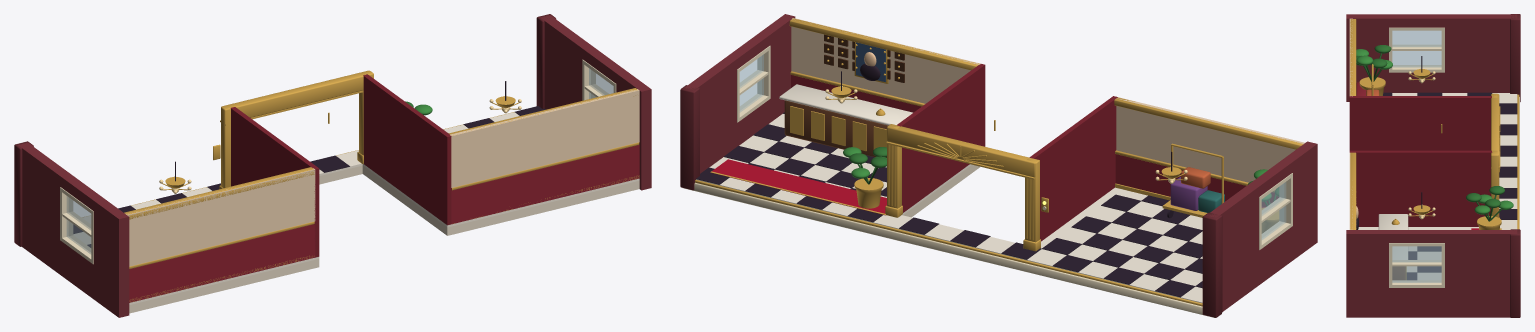
Rendered from Floor_Lobby.fbx.
The picture shows the model from 3 angles, left to right: view 1: azimuth 30°, elevation 25°; view 2: azimuth 150°, elevation 25°; view 3: azimuth 270°, elevation 25°; orthographic projection. The views are drawn at different scales.
Visible parts, largest first — view 1: Shell; view 2: Shell; view 3: Shell, Glow.
Part boxes in pixels (x1,y1,x2,y2): Shell: (14,14,651,317); Shell: (680,14,1317,317); Shell: (1346,14,1520,317); Glow: (1408,68,1435,219).
Size of the model in its own units: 15.92 by 2.82 by 5.3.
